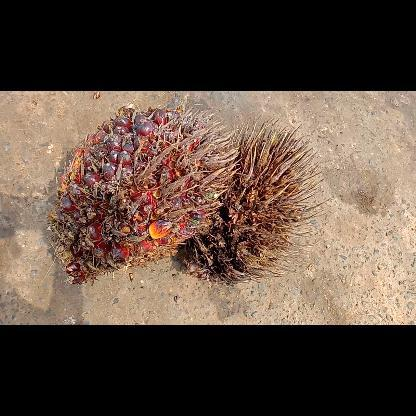Janjang kosong: (176, 116, 324, 280)
TBS masak: (47, 107, 239, 284)
